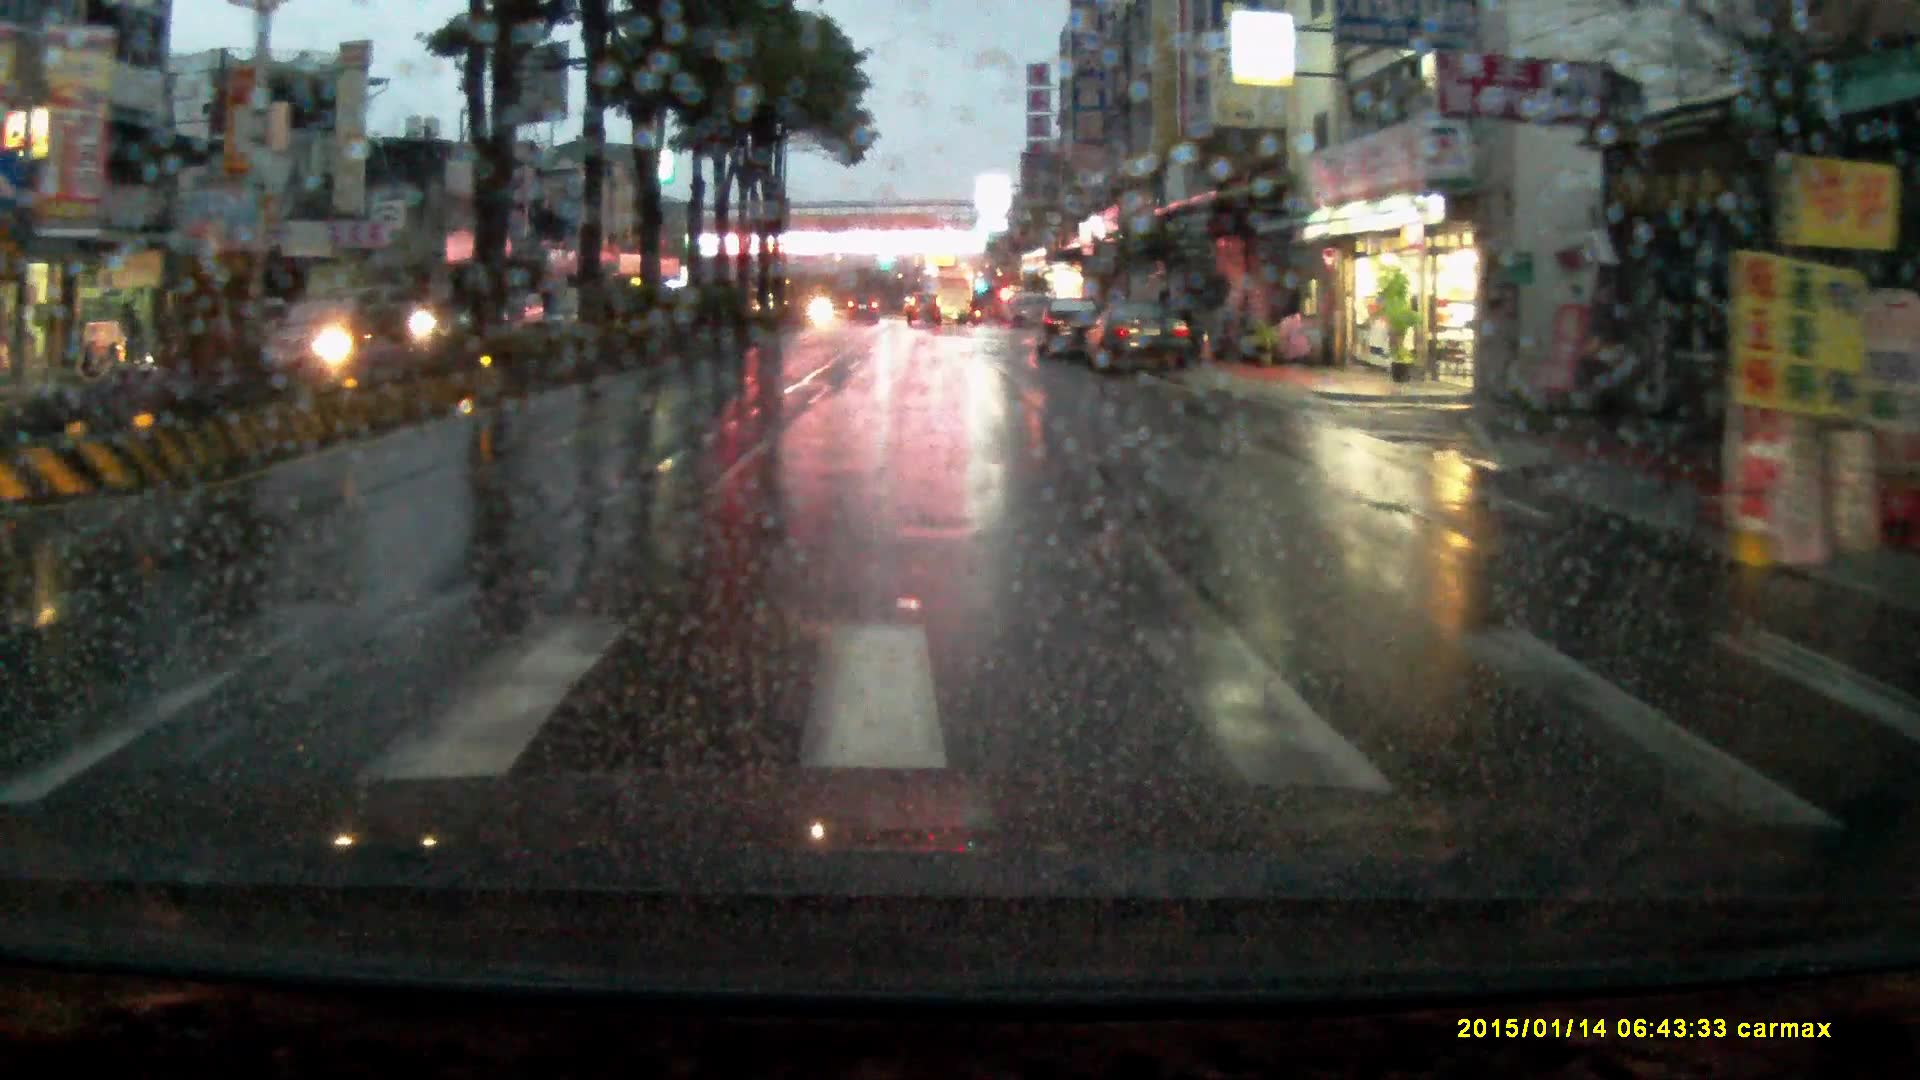rider: (398, 247, 475, 394)
vehicle: (264, 284, 434, 376), (1079, 300, 1193, 379), (188, 306, 266, 366), (1034, 298, 1099, 362), (919, 267, 974, 327), (906, 292, 942, 328), (847, 293, 879, 323)
